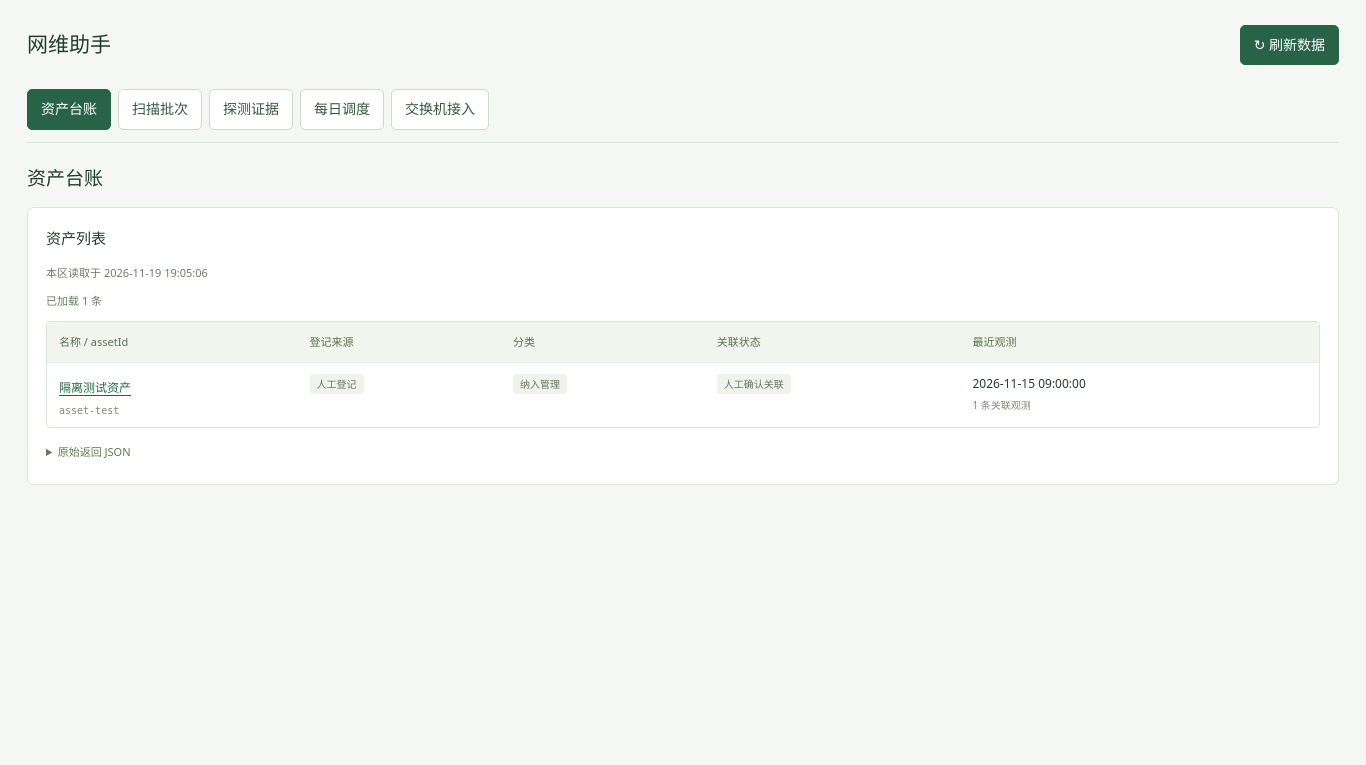
最小工作台真实读取语义（隔离响应） › 网页入口拒绝脚本URL，缺少截图时不伪造预览
This screenshot has width=1366, height=765.
Expected: the button with aria-label "查看 隔离测试资产" is shown, left=59, top=374, right=131, bottom=401
Click the button "扫描批次". click: (160, 110)
box: left=118, top=89, right=202, bottom=130
(page scrolled)
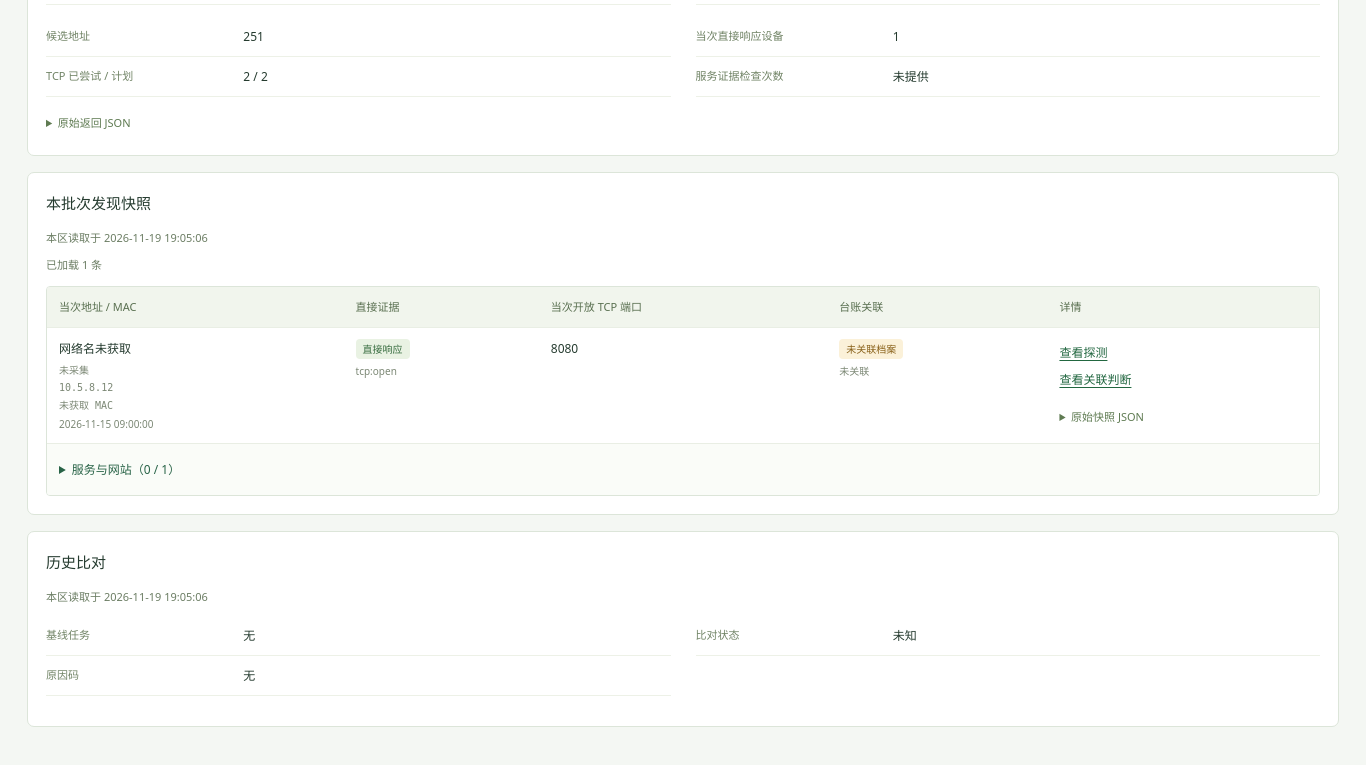
Click the heading "服务与网站（0 / 1）". click: (126, 469)
box: left=72, top=461, right=180, bottom=478
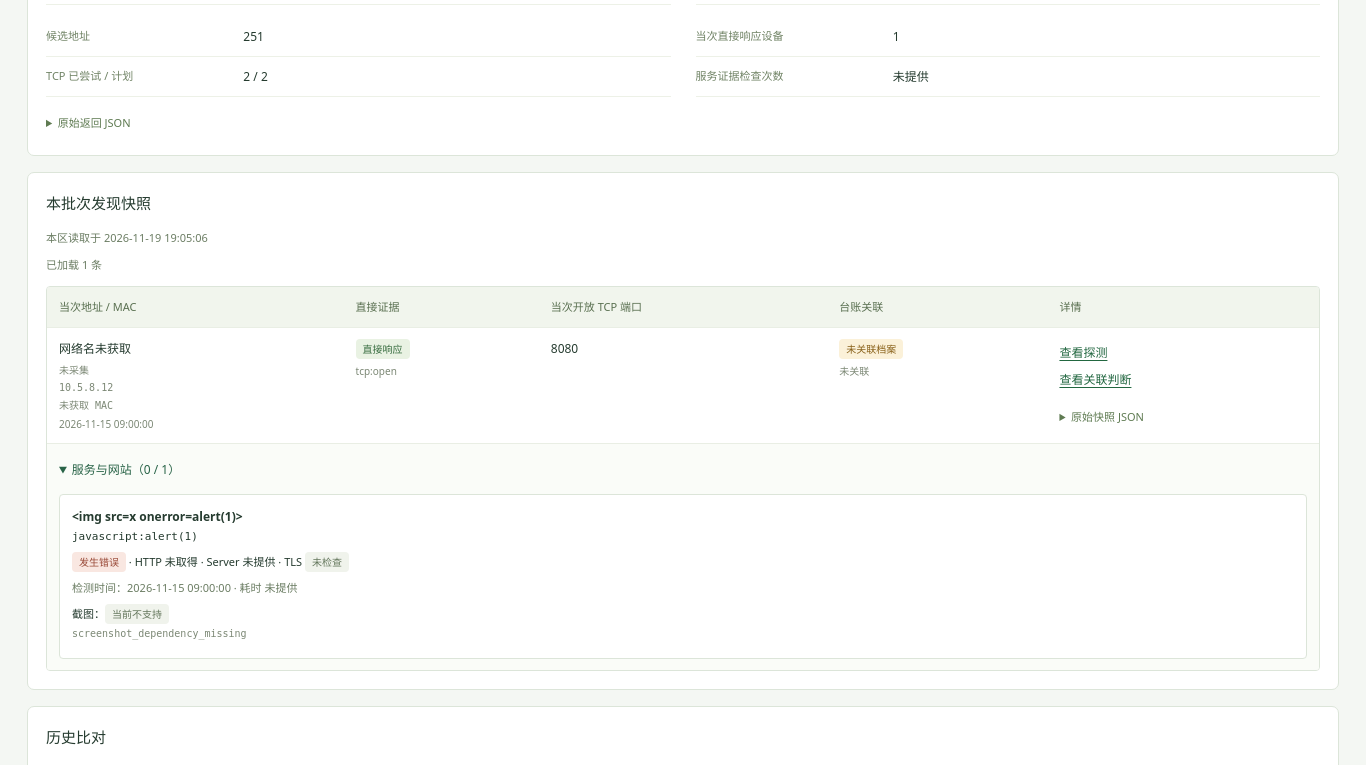
Now the text "screenshot_dependency_missing" is shown, box left=72, top=628, right=247, bottom=639
